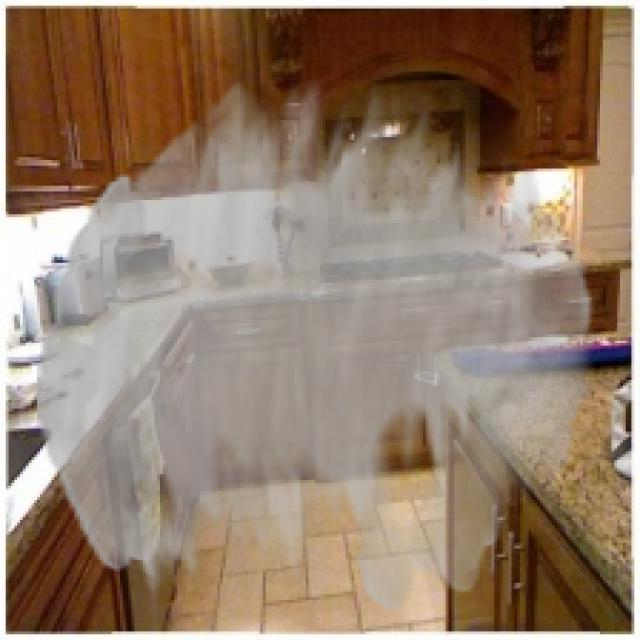Smoke: (37, 77, 594, 612)
